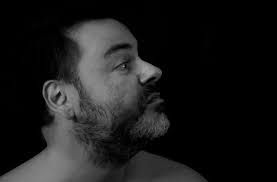no-mask: (56, 16, 179, 156)
